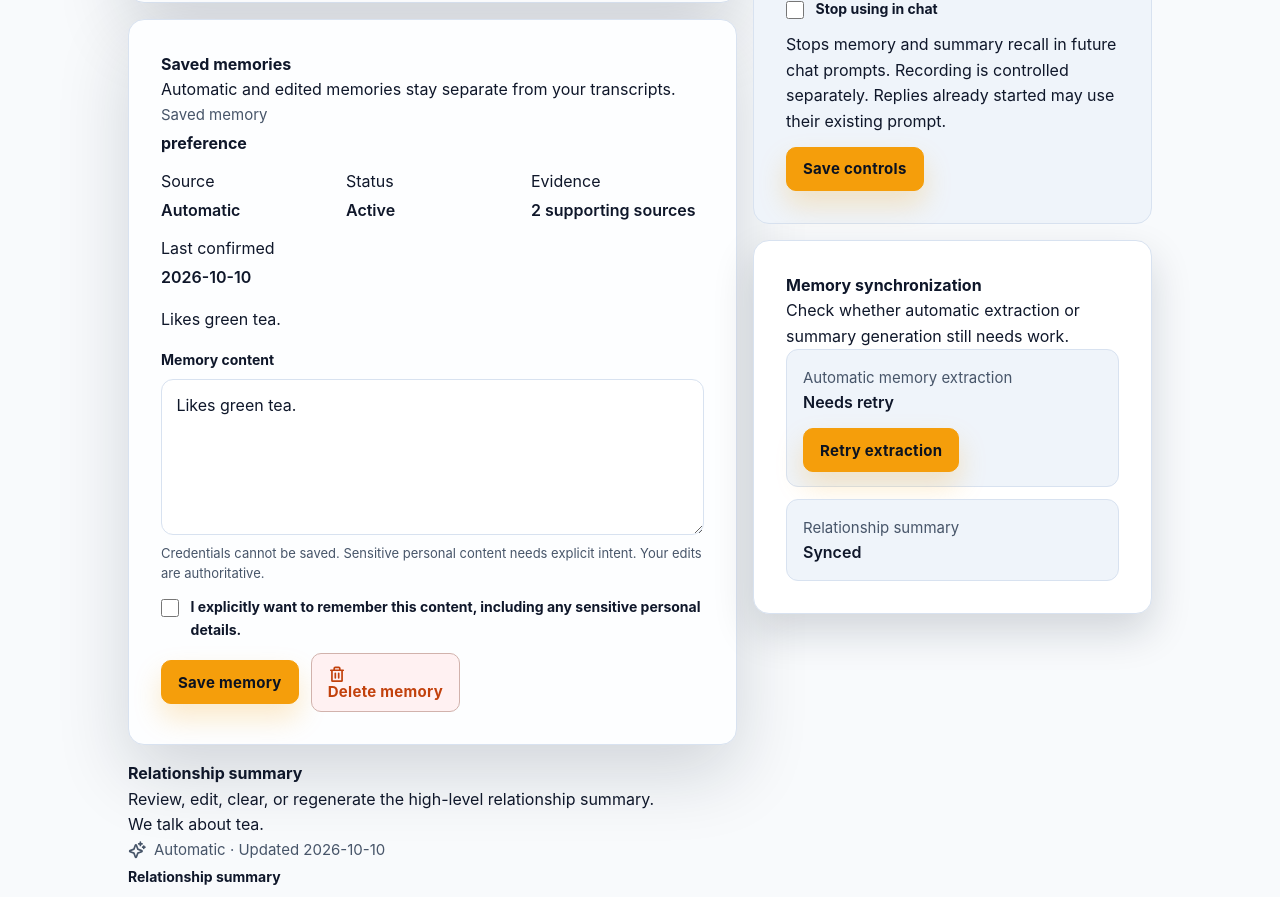
Scenario: failed retry keeps the synchronization alert visible and focused
This screenshot has width=1280, height=897.
(page scrolled)
What coordinates should you click on to do the following:
click the button "Retry extraction"
I would click on:
 (881, 450)
Its box is [803,428,959,472].
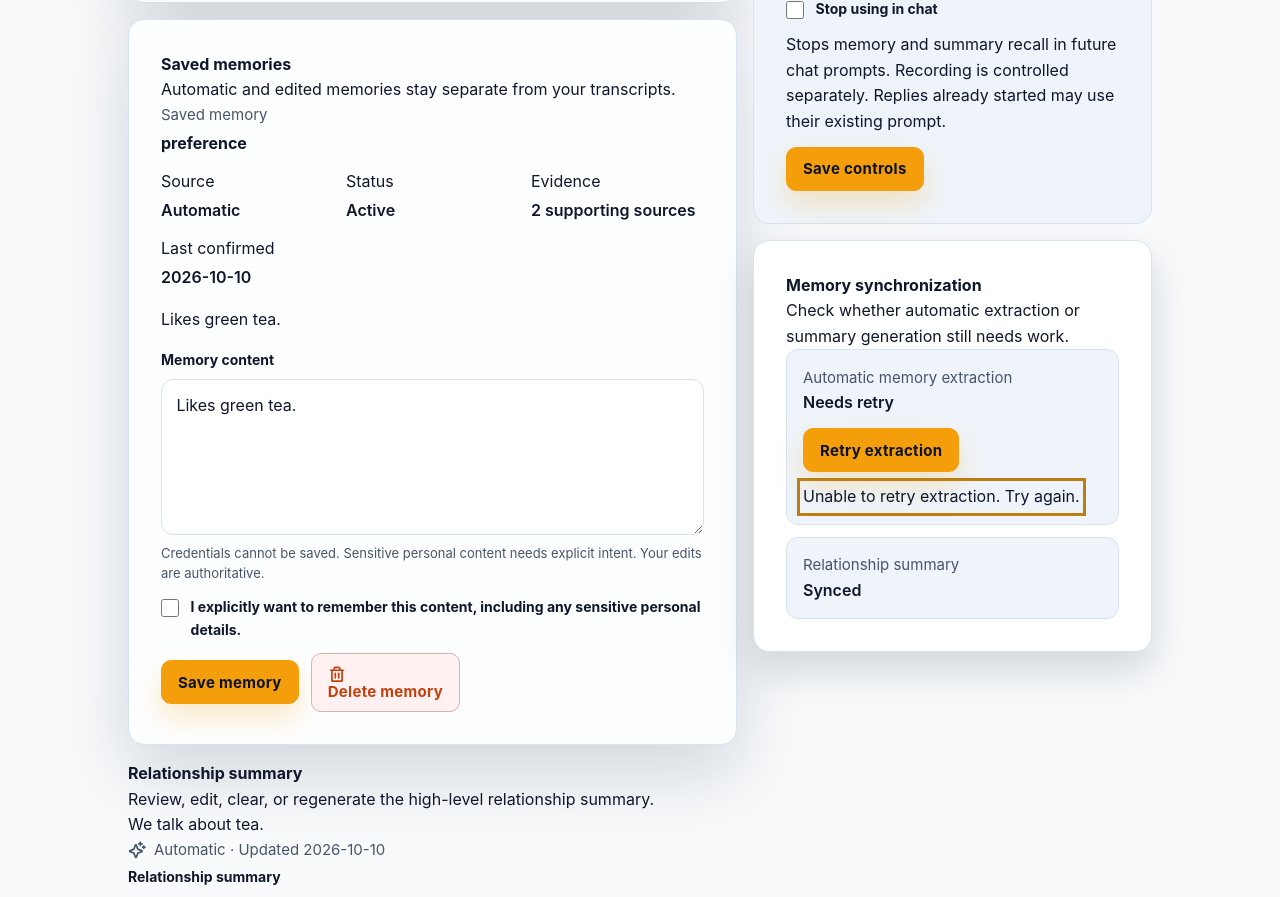
expect the text "Unable to retry extraction. Try again." is shown: met, box [803,484,1080,510]
